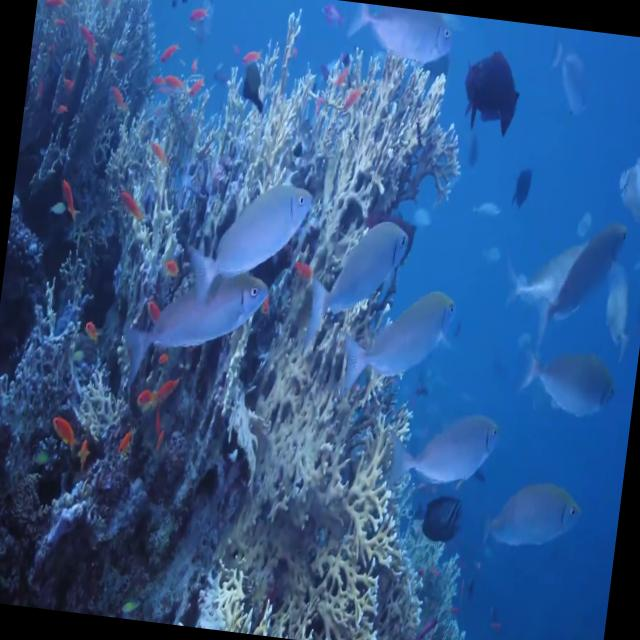fish: (121, 257, 272, 392), (181, 170, 314, 318), (306, 214, 412, 361), (338, 279, 460, 402), (530, 216, 632, 352), (386, 406, 506, 500), (513, 333, 623, 428), (480, 472, 586, 570), (345, 2, 462, 76)
